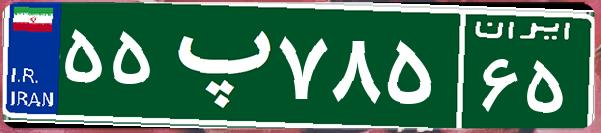5: (385, 28, 445, 110), (57, 26, 110, 107), (110, 28, 158, 105), (525, 38, 570, 115)
6: (475, 38, 525, 113)
7: (273, 28, 330, 110)
8: (330, 28, 385, 110)
پ: (158, 15, 273, 115)
